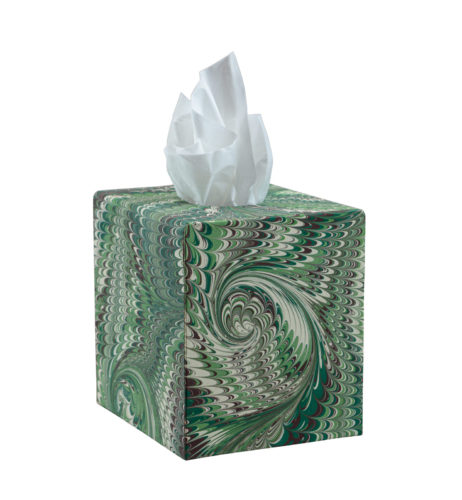Tissue: (159, 51, 278, 207)
